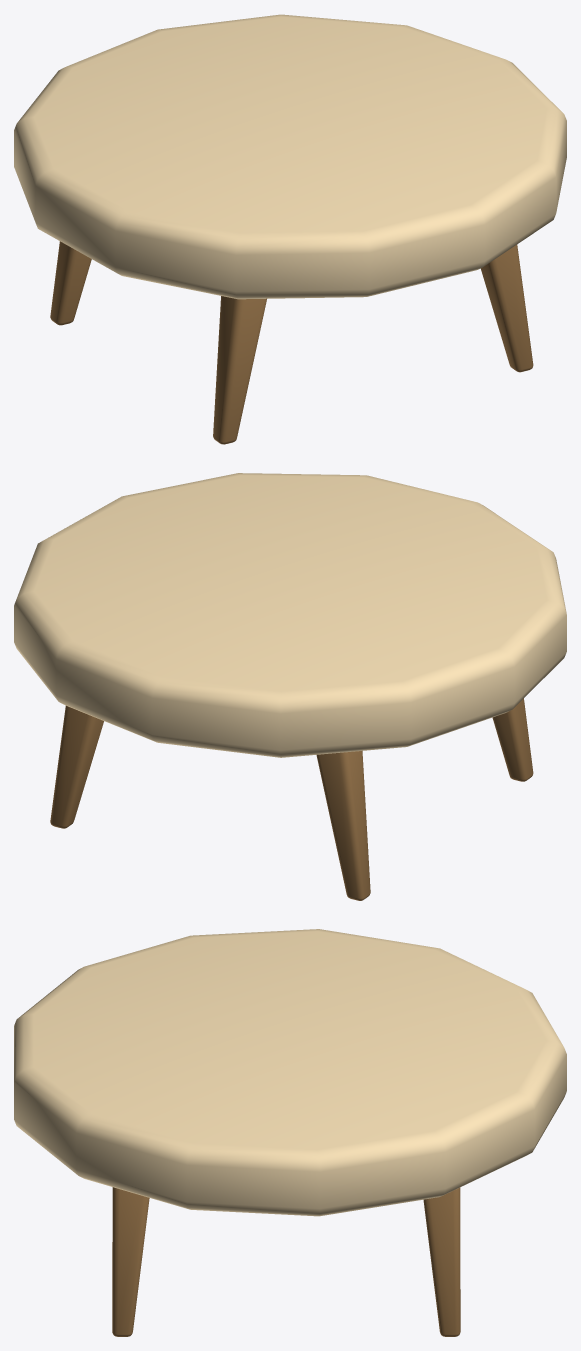
The model's file is Table_4V.fbx.
3 renders of one model, top to bottom at view 1: azimuth 30°, elevation 25°; view 2: azimuth 150°, elevation 25°; view 3: azimuth 270°, elevation 25°, orthographic.
Parts seen in each view (by area): view 1: Table_4V; view 2: Table_4V; view 3: Table_4V.
Part boxes in pixels (x1,y1,x2,y2): Table_4V: (14, 14, 566, 444); Table_4V: (14, 473, 566, 900); Table_4V: (14, 929, 566, 1336).
Size of the model in its own units: 0.4596 by 0.2012 by 0.4562.
